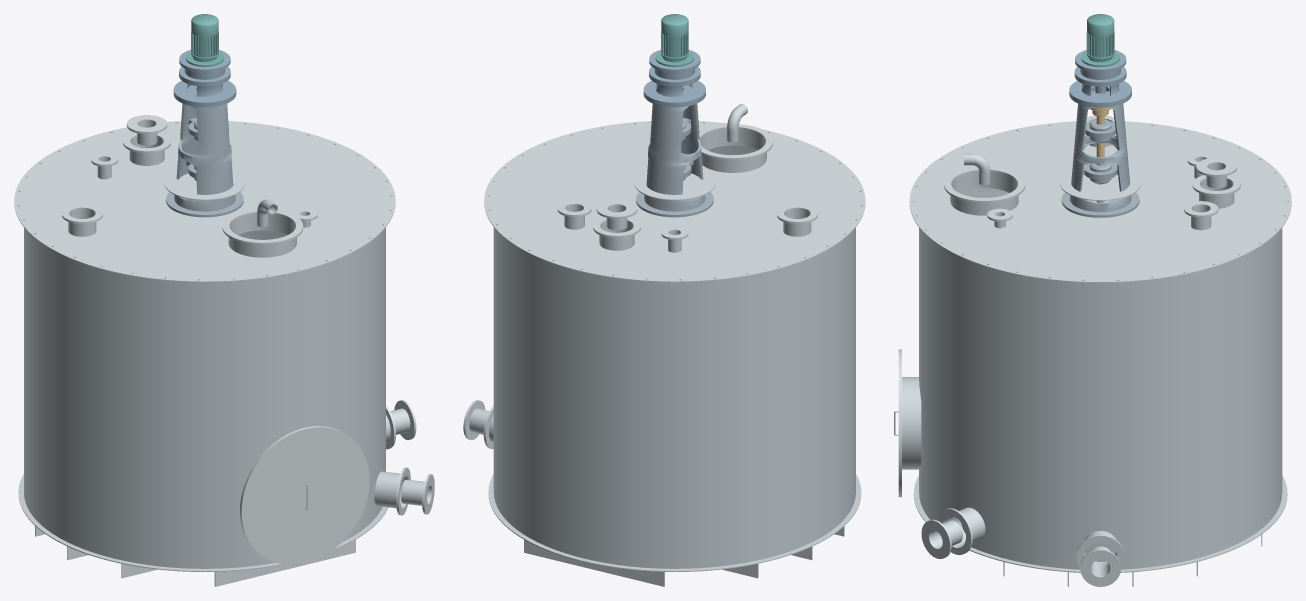
3 views of the same model, side by side, from view 1: azimuth 30°, elevation 25°; view 2: azimuth 150°, elevation 25°; view 3: azimuth 270°, elevation 25° (orthographic).
Visible parts, largest first — view 1: 本体_钢壳, 盖面_开孔盖板, 接口_h2_人孔盖, 搅拌_06_Tapered_window_frame_with_bored_seats, 接口_h1接管, 本体_底板, 搅拌_01_Motor, 盖面_h1盖, 设备底型钢_1, 接口_h1法兰, 搅拌_02_Base_flange_top, 接口_b2外套接管 (+5 smaller); view 2: 本体_钢壳, 盖面_开孔盖板, 搅拌_06_Tapered_window_frame_with_bored_seats, 本体_底板, 接口_h1接管, 搅拌_01_Motor, 设备底型钢_6, 盖面_h1盖, 接口_h1法兰, 搅拌_02_Base_flange_top, 搅拌_06_Frame_foot, 接口_a外套接管 (+2 smaller); view 3: 本体_钢壳, 盖面_开孔盖板, 搅拌_06_Tapered_window_frame_with_bored_seats, 接口_h2接管, 本体_底板, 接口_h1接管, 搅拌_01_Motor, 盖面_h1盖, 接口_h1法兰, 接口_b1法兰, 搅拌_02_Base_flange_top, 接口_b2法兰 (+6 smaller).
Part boxes in pixels (x1,y1,x2,y2): 本体_钢壳: (24,227,385,568); 盖面_开孔盖板: (14,121,395,282); 接口_h2_人孔盖: (241,427,369,564); 搅拌_06_Tapered_window_frame_with_bored_seats: (174,103,235,211); 接口_h1接管: (228,214,296,257); 本体_底板: (18,474,388,571); 搅拌_01_Motor: (185,14,223,66); 盖面_h1盖: (164,170,245,200); 设备底型钢_1: (214,539,355,586); 接口_h1法兰: (222,209,303,244); 搅拌_02_Base_flange_top: (173,80,236,104); 接口_b2外套接管: (374,471,406,508); 本体_钢壳: (493,145,855,568); 盖面_开孔盖板: (484,121,865,282); 搅拌_06_Tapered_window_frame_with_bored_seats: (644,103,705,211); 本体_底板: (488,474,861,571); 接口_h1接管: (700,129,766,172); 搅拌_01_Motor: (655,14,693,66); 设备底型钢_6: (524,540,664,586); 盖面_h1盖: (634,170,715,200); 接口_h1法兰: (699,124,773,160); 搅拌_02_Base_flange_top: (643,80,705,104); 搅拌_06_Frame_foot: (636,192,713,217); 接口_a外套接管: (599,222,634,250); 本体_钢壳: (919,188,1282,569); 盖面_开孔盖板: (909,121,1291,282); 搅拌_06_Tapered_window_frame_with_bored_seats: (1070,103,1131,211); 接口_h2接管: (902,377,921,469); 本体_底板: (913,475,1287,572); 接口_h1接管: (950,172,1018,215); 搅拌_01_Motor: (1081,14,1119,66); 盖面_h1盖: (1060,170,1141,200); 接口_h1法兰: (944,167,1025,202); 接口_b1法兰: (1080,549,1120,586); 搅拌_02_Base_flange_top: (1069,81,1131,105); 接口_b2法兰: (921,519,951,558).
Size of the model in its own units: 3.29 by 4.22 by 3.09.
